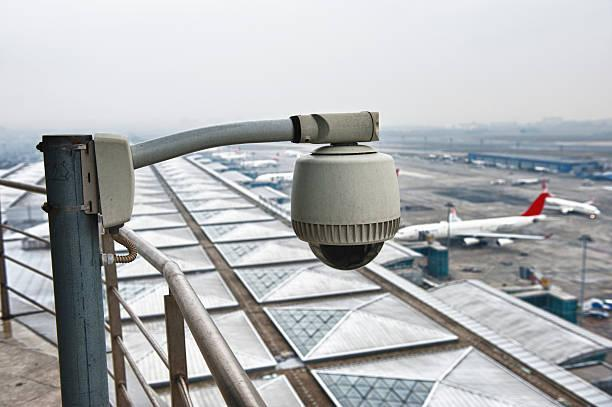camera: (254, 91, 426, 280)
